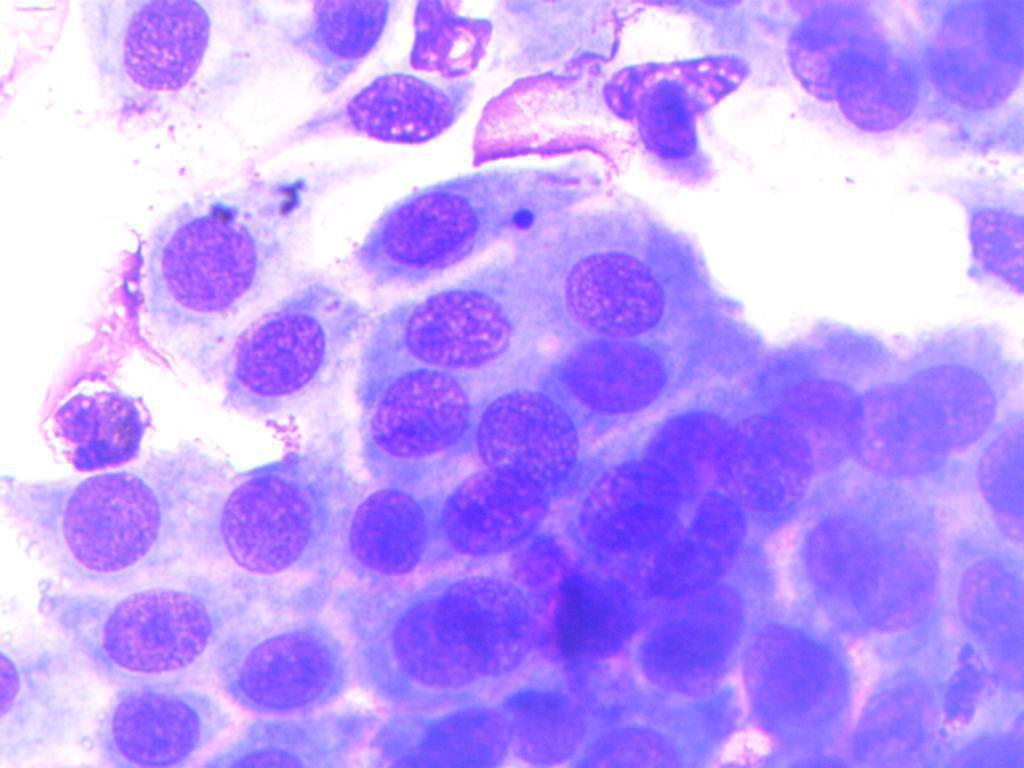epithelial: (351, 175, 549, 280), (135, 176, 273, 317), (174, 470, 338, 584), (2, 474, 165, 588), (744, 615, 859, 752), (314, 68, 469, 163), (527, 240, 682, 335), (73, 585, 228, 680), (206, 621, 361, 716), (778, 1, 906, 112), (641, 491, 770, 601), (564, 447, 689, 555), (894, 349, 1011, 462), (639, 577, 750, 696), (839, 370, 953, 482), (712, 404, 818, 520), (428, 574, 546, 677), (378, 591, 501, 688), (396, 276, 516, 374), (224, 306, 344, 404), (359, 367, 479, 465), (35, 377, 149, 476), (924, 3, 1024, 114), (602, 51, 752, 124), (772, 365, 863, 479), (845, 525, 936, 638), (543, 568, 642, 669), (954, 171, 1024, 312), (435, 469, 551, 554), (479, 386, 579, 484), (488, 675, 603, 757), (93, 688, 211, 767), (117, 0, 217, 93), (636, 408, 741, 496), (565, 706, 711, 768), (558, 333, 672, 412), (950, 541, 1024, 662), (837, 52, 934, 144), (627, 79, 730, 165), (801, 488, 878, 602), (346, 481, 429, 580), (394, 703, 515, 768), (970, 395, 1024, 539), (303, 0, 390, 57)
